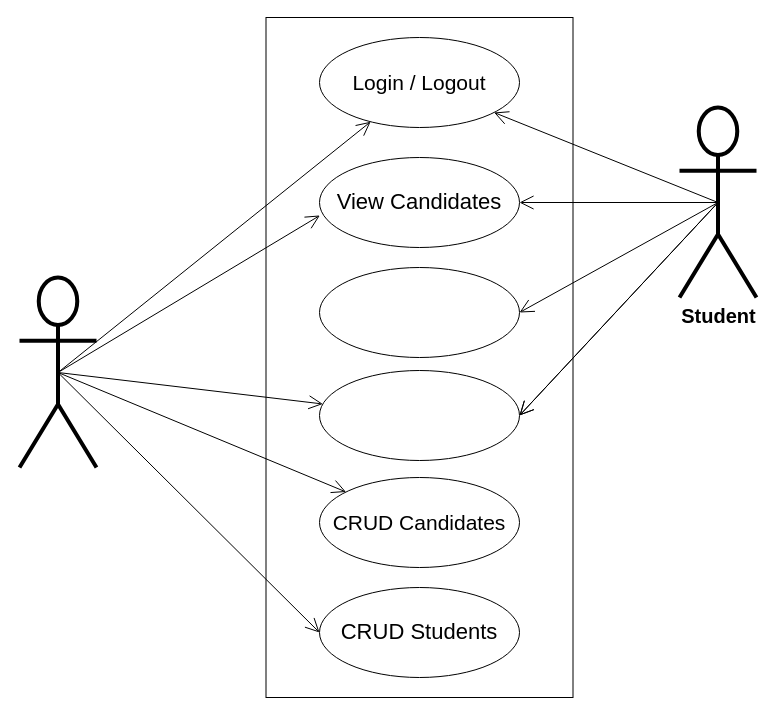
The diagram is 775 pixels wide and 715 high, and some of its shapes have lost their labels. Each missing label, with the centre of its shape:
"Admin" goes at (x=57, y=372).
"Cast Vote" goes at (x=419, y=312).
"View Voting Results" goes at (x=419, y=415).
